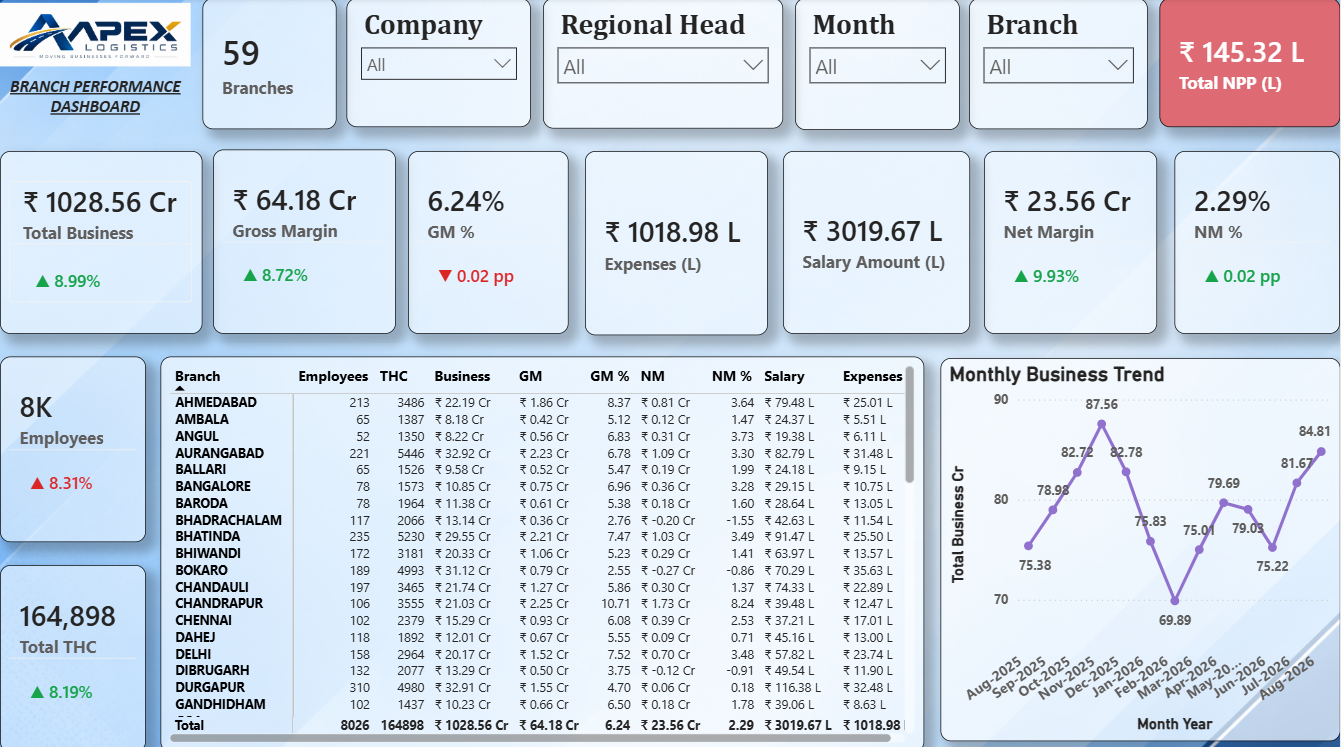

This screenshot's page, from the dashboard's own definition file:
{"tool":"powerbi","page":{"name":"Summary","canvas":[1280,720],"ordinal":0},"visuals":[{"type":"textbox","box":[0,69.4,182,55],"z":0},{"type":"slicer","fields":{"Values":["Calendar.Month Year"]},"box":[759.2,0,157.6,126.1],"z":1000},{"type":"slicer","fields":{"Values":["BranchData.Branch Name "]},"box":[925.5,0,170.7,125.2],"z":2000},{"type":"cardVisual","fields":{"Data":["Measure Table.Total Business (Cr)"]},"box":[0,146.1,193.4,174.8],"z":3000},{"type":"cardVisual","fields":{"Data":["Measure Table.Gross Margin (Cr)"]},"box":[203.4,144.7,174.8,176.2],"z":4000},{"type":"cardVisual","fields":{"Data":["Measure Table.NM % Display"]},"box":[1121.7,145.9,158.3,174.8],"z":5000},{"type":"cardVisual","fields":{"Data":["Measure Table.Net Margin (Cr)"]},"box":[940,145.9,165.2,174.8],"z":6000},{"type":"cardVisual","fields":{"Data":["Measure Table.GM % Display"]},"box":[389.6,146.1,153.3,174.8],"z":7000},{"type":"cardVisual","fields":{"Data":["Measure Table.Current Employees"]},"box":[0,342.7,139,177.5],"z":8000},{"type":"cardVisual","fields":{"Data":["Measure Table.THC Display"]},"box":[0,540.9,139,178.9],"z":9000},{"type":"cardVisual","fields":{"Data":["Measure Table.Branch Count"]},"box":[192.7,0,128,125.2],"z":10000},{"type":"cardVisual","fields":{"Data":["Measure Table.Salary Amount (L)"]},"box":[747.4,145.9,178.9,174.8],"z":11000},{"type":"cardVisual","fields":{"Data":["Measure Table.Expenses (L)"]},"box":[558.6,146.1,174.8,176.2],"z":12000},{"type":"pivotTable","fields":{"Rows":["BranchData.Branch Name "],"Values":["Measure Table.Current Employees","Measure Table.Total THC","Measure Table.Total Business (Cr)","Measure Table.Gross Margin (Cr)","Measure Table.GM %","Measure Table.Net Margin (Cr)","Measure Table.NM %","Measure Table.Salary Amount (L)","Measure Table.Expenses (L)"]},"box":[153.3,342.3,729.1,378.2],"z":13000},{"type":"lineChart","title":"Monthly Business Trend","fields":{"Category":["Calendar.Month Year"],"Y":["Measure Table.Total Business Cr"]},"box":[897.9,343.2,382.2,366],"z":14000},{"type":"image","box":[0,0,182.2,70.5],"z":15000},{"type":"slicer","fields":{"Values":["BranchData.Regional Head"]},"box":[518.5,0,229.2,124.6],"z":18000},{"type":"cardVisual","fields":{"Data":["Measure Table.Total NPP Display"]},"box":[1107.7,0,172.4,123.6],"z":18001},{"type":"slicer","fields":{"Values":["BranchData.Company"]},"box":[330.9,0,176.2,123.2],"z":18002}]}

Visuals, with their boxes in screenshot pixels (x1, y1, x2, y2), scaled from the page's 1280x720 canvas onto the 1341x747 screenshot:
textbox: 0,72,191,129
slicer - Calendar.Month Year: 795,0,960,131
slicer - BranchData.Branch Name : 970,0,1148,130
cardVisual - Measure Table.Total Business (Cr): 0,152,203,333
cardVisual - Measure Table.Gross Margin (Cr): 213,150,396,333
cardVisual - Measure Table.NM % Display: 1175,151,1340,333
cardVisual - Measure Table.Net Margin (Cr): 985,151,1158,333
cardVisual - Measure Table.GM % Display: 408,152,569,333
cardVisual - Measure Table.Current Employees: 0,356,146,540
cardVisual - Measure Table.THC Display: 0,561,146,746
cardVisual - Measure Table.Branch Count: 202,0,336,130
cardVisual - Measure Table.Salary Amount (L): 783,151,970,333
cardVisual - Measure Table.Expenses (L): 585,152,768,334
pivotTable - BranchData.Branch Name  x Measure Table.Current Employees: 161,355,924,746
"Monthly Business Trend" lineChart: 941,356,1340,736
image: 0,0,191,73
slicer - BranchData.Regional Head: 543,0,783,129
cardVisual - Measure Table.Total NPP Display: 1160,0,1340,128
slicer - BranchData.Company: 347,0,531,128
